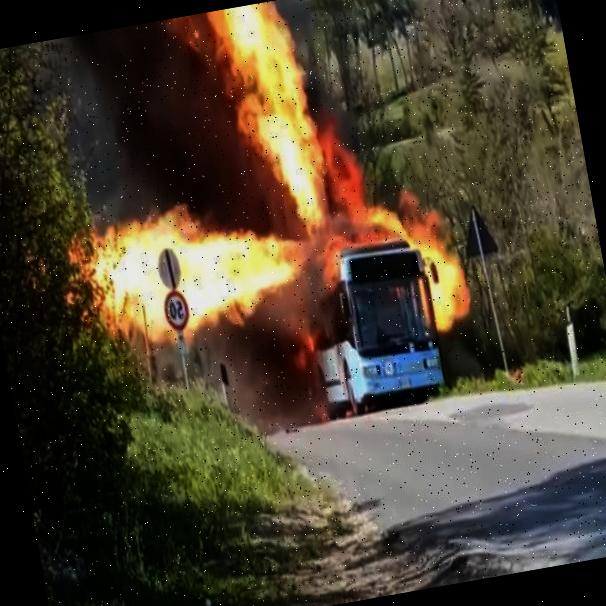smoke: (52, 22, 239, 224), (174, 273, 357, 443)
